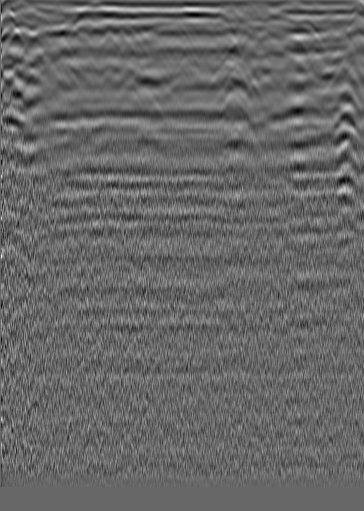가스: (215, 133, 263, 178)
상수: (304, 32, 324, 52)
오수: (20, 30, 54, 65)
우수: (171, 25, 191, 45)
